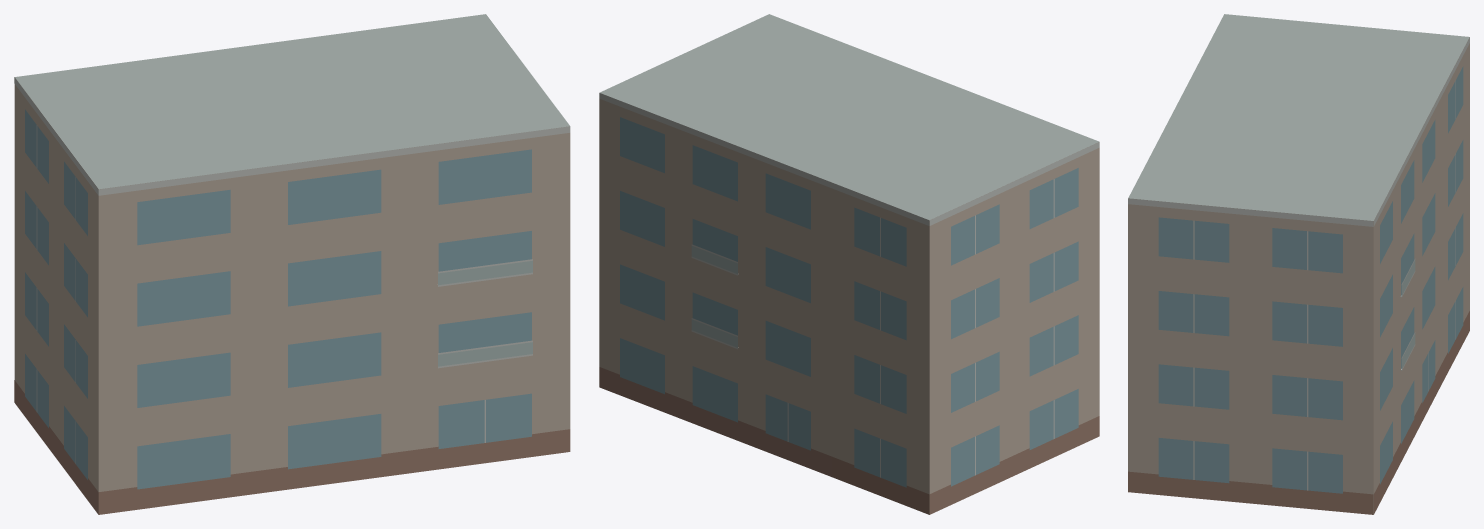
The model's file is residential-0ffd9eb0-bbae-40b1-a9fc-65a4fc993c73.glb.
3 renders of one model, left to right at view 1: azimuth 30°, elevation 25°; view 2: azimuth 150°, elevation 25°; view 3: azimuth 270°, elevation 25°, orthographic. The views are drawn at different scales.
Parts seen in each view (by area): view 1: residential-0ffd9eb0-bbae-40b1-a9fc-65a4fc993c73.tmp; view 2: residential-0ffd9eb0-bbae-40b1-a9fc-65a4fc993c73.tmp; view 3: residential-0ffd9eb0-bbae-40b1-a9fc-65a4fc993c73.tmp.
Part boxes in pixels (left/top/right/bottom): residential-0ffd9eb0-bbae-40b1-a9fc-65a4fc993c73.tmp: left=14, top=14, right=570, bottom=514; residential-0ffd9eb0-bbae-40b1-a9fc-65a4fc993c73.tmp: left=599, top=14, right=1099, bottom=514; residential-0ffd9eb0-bbae-40b1-a9fc-65a4fc993c73.tmp: left=1128, top=14, right=1469, bottom=514.
Size of the model in its own units: 18.45 by 12.2 by 12.87.
